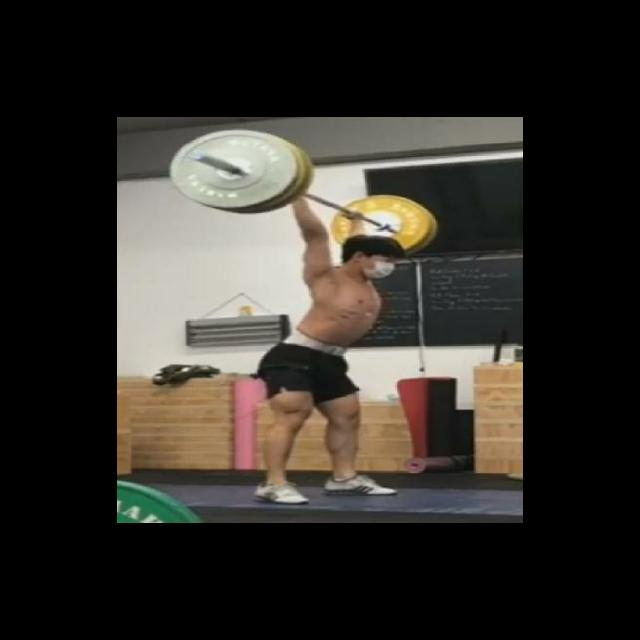barbell: (165, 125, 314, 219)
